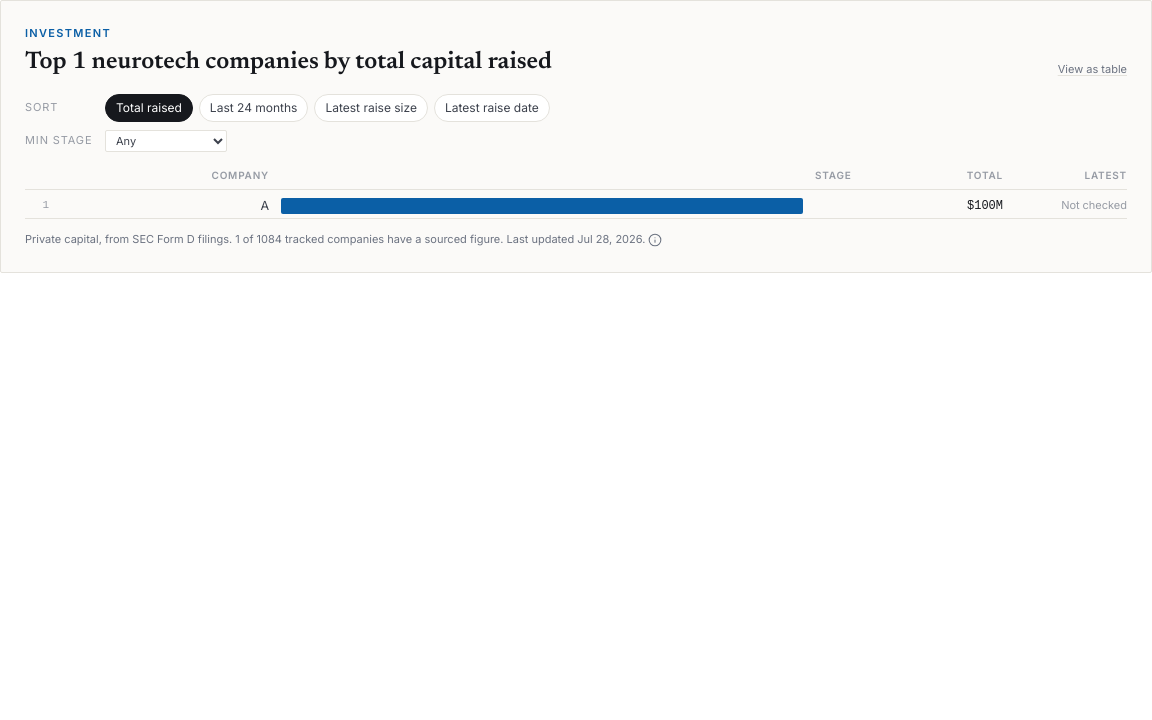
Test: FundingChart › keeps the inclusion rule reachable from the caption
Step 1. Click the button named "what counts as a neurotech company" → (656, 240), box [648,232,662,246]
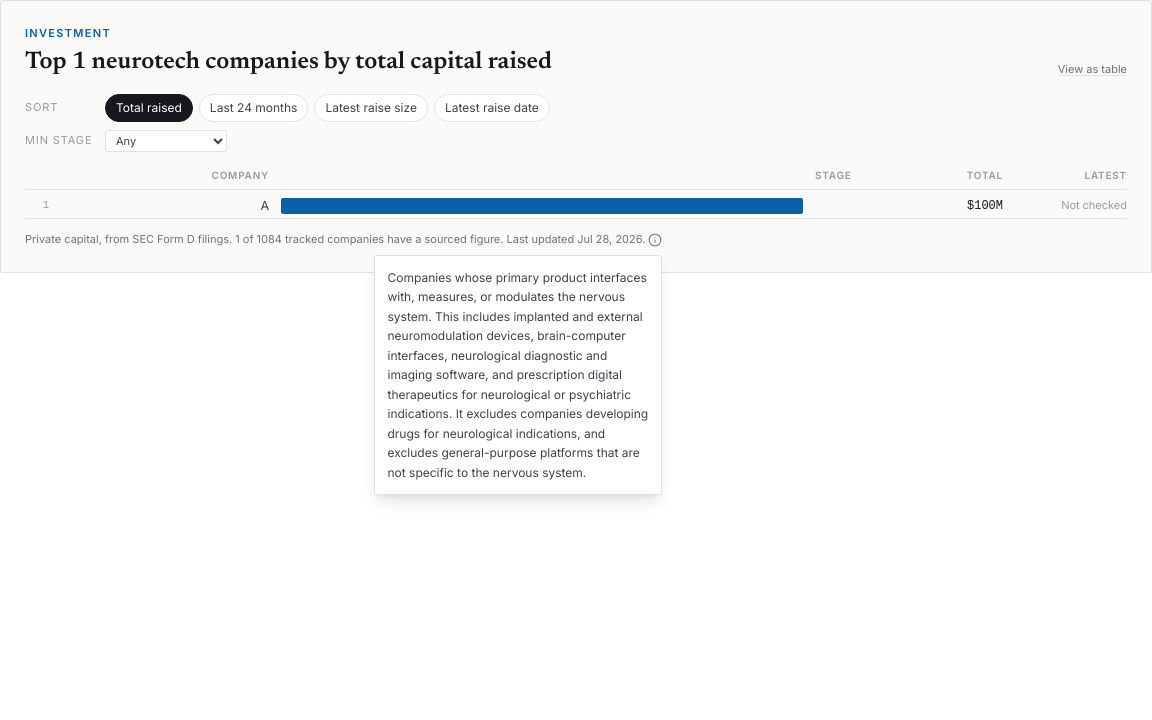
Now the tooltip "primary product interfaces with, measures, or modulates" is shown, box [388,270,648,480]
